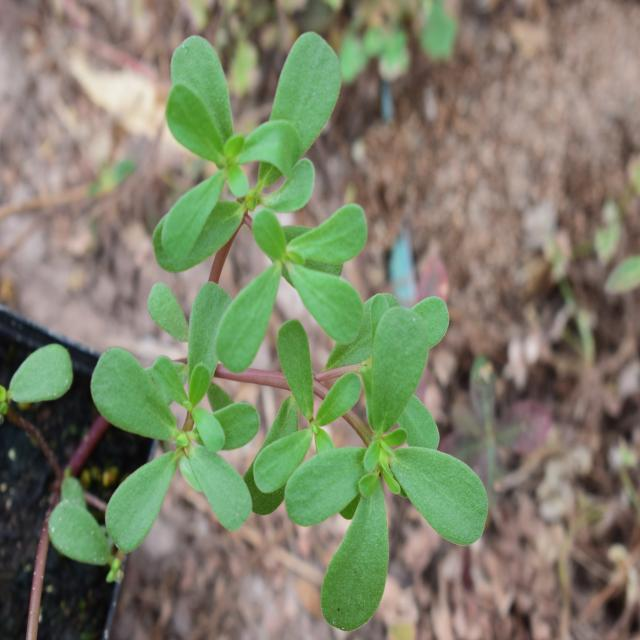purslane: (89, 10, 509, 640)
